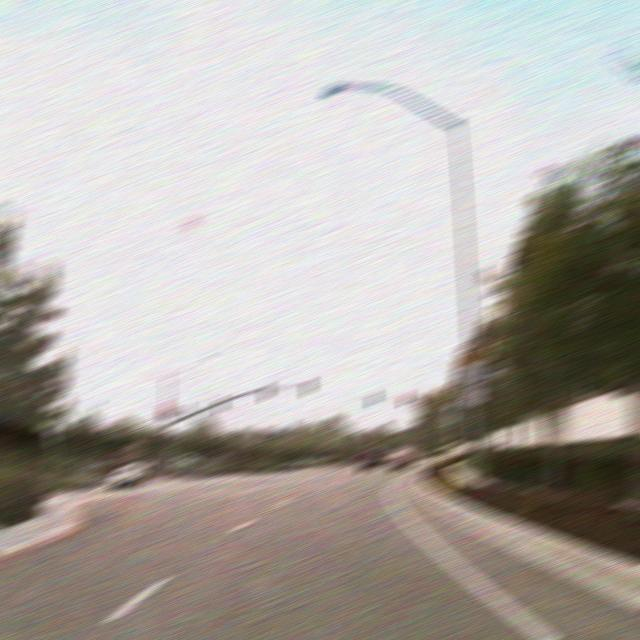speedLimit25: (458, 352, 486, 406)
